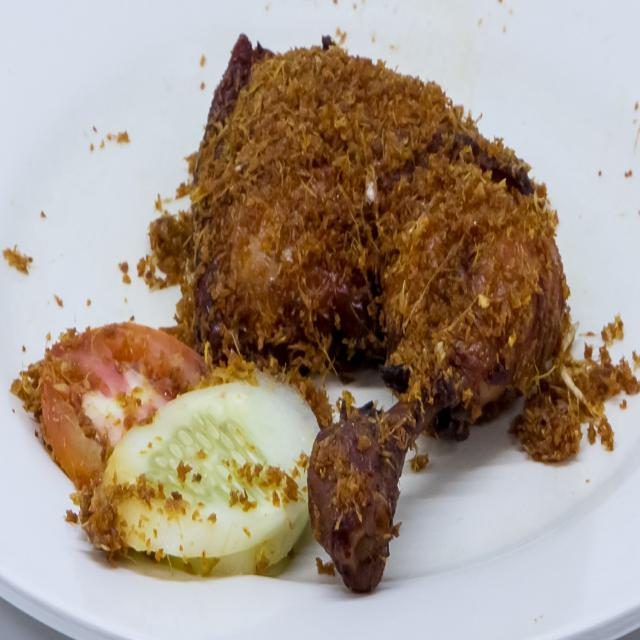Ayam-Goreng-Lengkuas: (170, 12, 580, 594)
